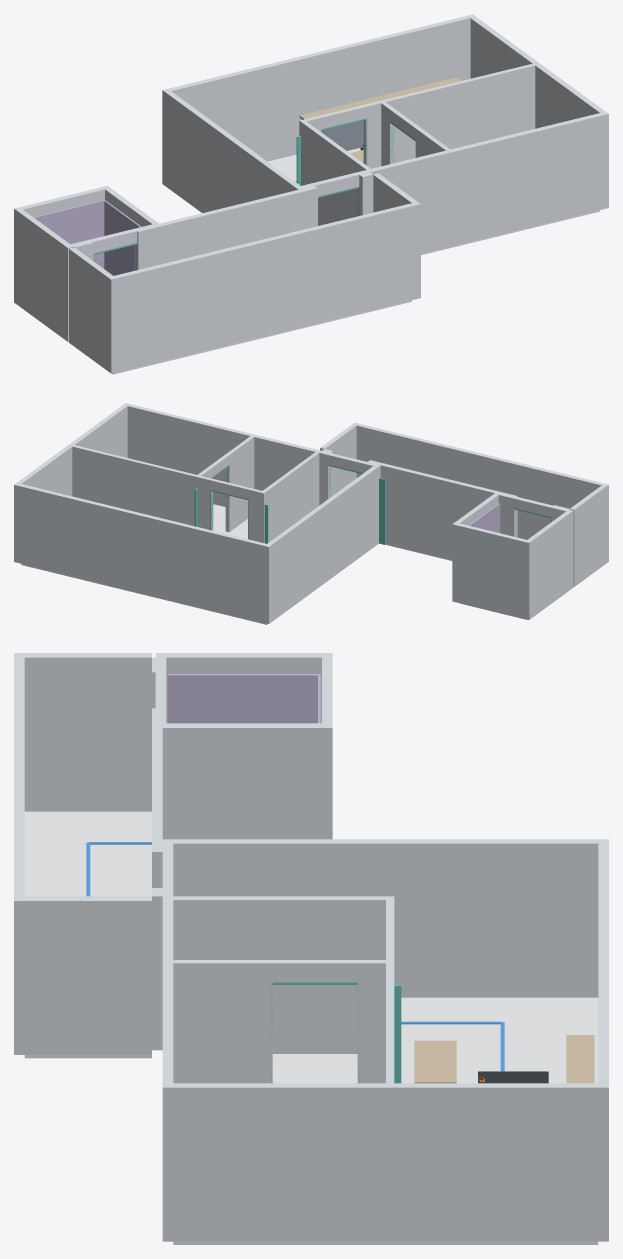
File: niveau_depart.glb
3 views of the same model, one above another, from view 1: azimuth 30°, elevation 25°; view 2: azimuth 150°, elevation 25°; view 3: azimuth 270°, elevation 25° (orthographic). The views are drawn at different scales.
Visible parts, largest first — view 1: N1, N1_comptoir_plateau, N1_comptoir_base, N1_ascenseur_linteau, N1_PB_piece_B_linteau, N1_P0_sortie_linteau; view 2: N1, N1_ascenseur_linteau, N1_P0_sortie_linteau, N1_PB_piece_B_linteau; view 3: N1, N1_PC_piece_A_linteau, N1_bureau_1_plateau, N1_comptoir_plateau, AGV_toit_coffre.
Boxes of the visible parts, left/top/right/bottom form: N1: left=14, top=14, right=608, bottom=374; N1_comptoir_plateau: left=299, top=77, right=461, bottom=119; N1_comptoir_base: left=321, top=120, right=363, bottom=150; N1_ascenseur_linteau: left=89, top=229, right=137, bottom=253; N1_PB_piece_B_linteau: left=319, top=105, right=366, bottom=129; N1_P0_sortie_linteau: left=311, top=172, right=359, bottom=196; N1: left=14, top=403, right=608, bottom=624; N1_ascenseur_linteau: left=514, top=497, right=552, bottom=517; N1_P0_sortie_linteau: left=328, top=453, right=366, bottom=473; N1_PB_piece_B_linteau: left=211, top=479, right=249, bottom=498; N1: left=14, top=653, right=608, bottom=1244; N1_PC_piece_A_linteau: left=272, top=960, right=357, bottom=982; N1_bureau_1_plateau: left=414, top=1040, right=456, bottom=1083; N1_comptoir_plateau: left=566, top=1035, right=594, bottom=1083; AGV_toit_coffre: left=478, top=1071, right=548, bottom=1083.
Size of the model in its own units: 14.52 by 2.52 by 8.4.
